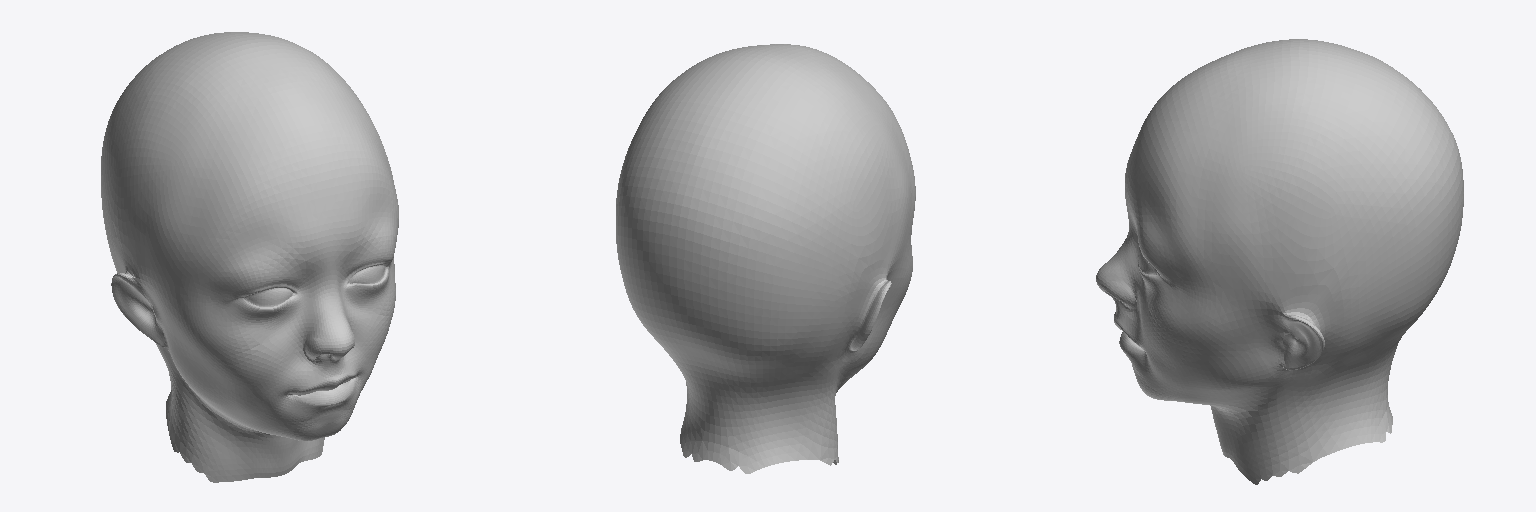
File: 3Dfacekk.obj
3 renders of one model, left to right at view 1: azimuth 30°, elevation 25°; view 2: azimuth 150°, elevation 25°; view 3: azimuth 270°, elevation 25°, orthographic.
Parts seen in each view (by area): view 1: FaceBuilderHead_FaceBuilderHead_mesh; view 2: FaceBuilderHead_FaceBuilderHead_mesh; view 3: FaceBuilderHead_FaceBuilderHead_mesh.
Part boxes in pixels (x1,y1,x2,y2): FaceBuilderHead_FaceBuilderHead_mesh: (101, 32, 398, 482); FaceBuilderHead_FaceBuilderHead_mesh: (616, 44, 915, 473); FaceBuilderHead_FaceBuilderHead_mesh: (1096, 39, 1463, 484).
Bounding box in the file's own units: 1.42 × 2.13 × 1.74.